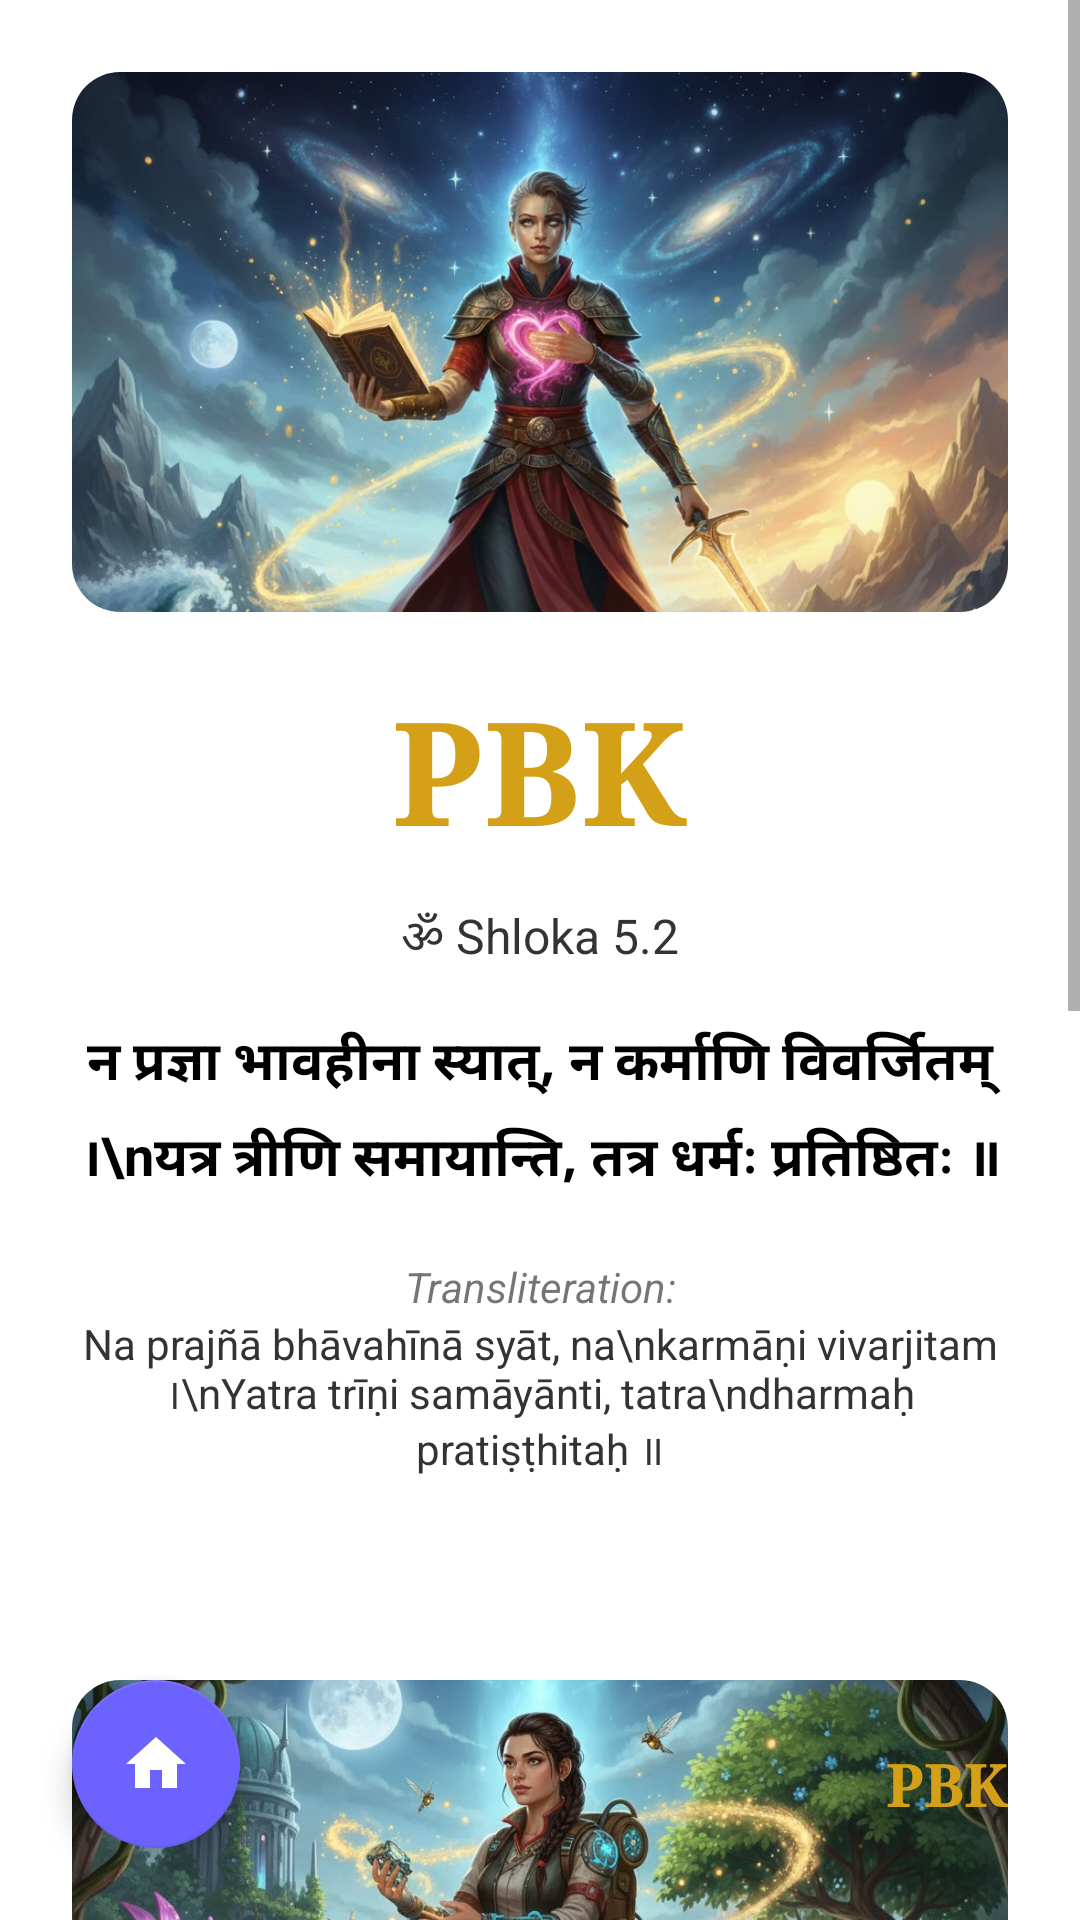

Icons on this 1080×1920 Android screen, each with the point to tap as (x,y):
home: (156,1764)
